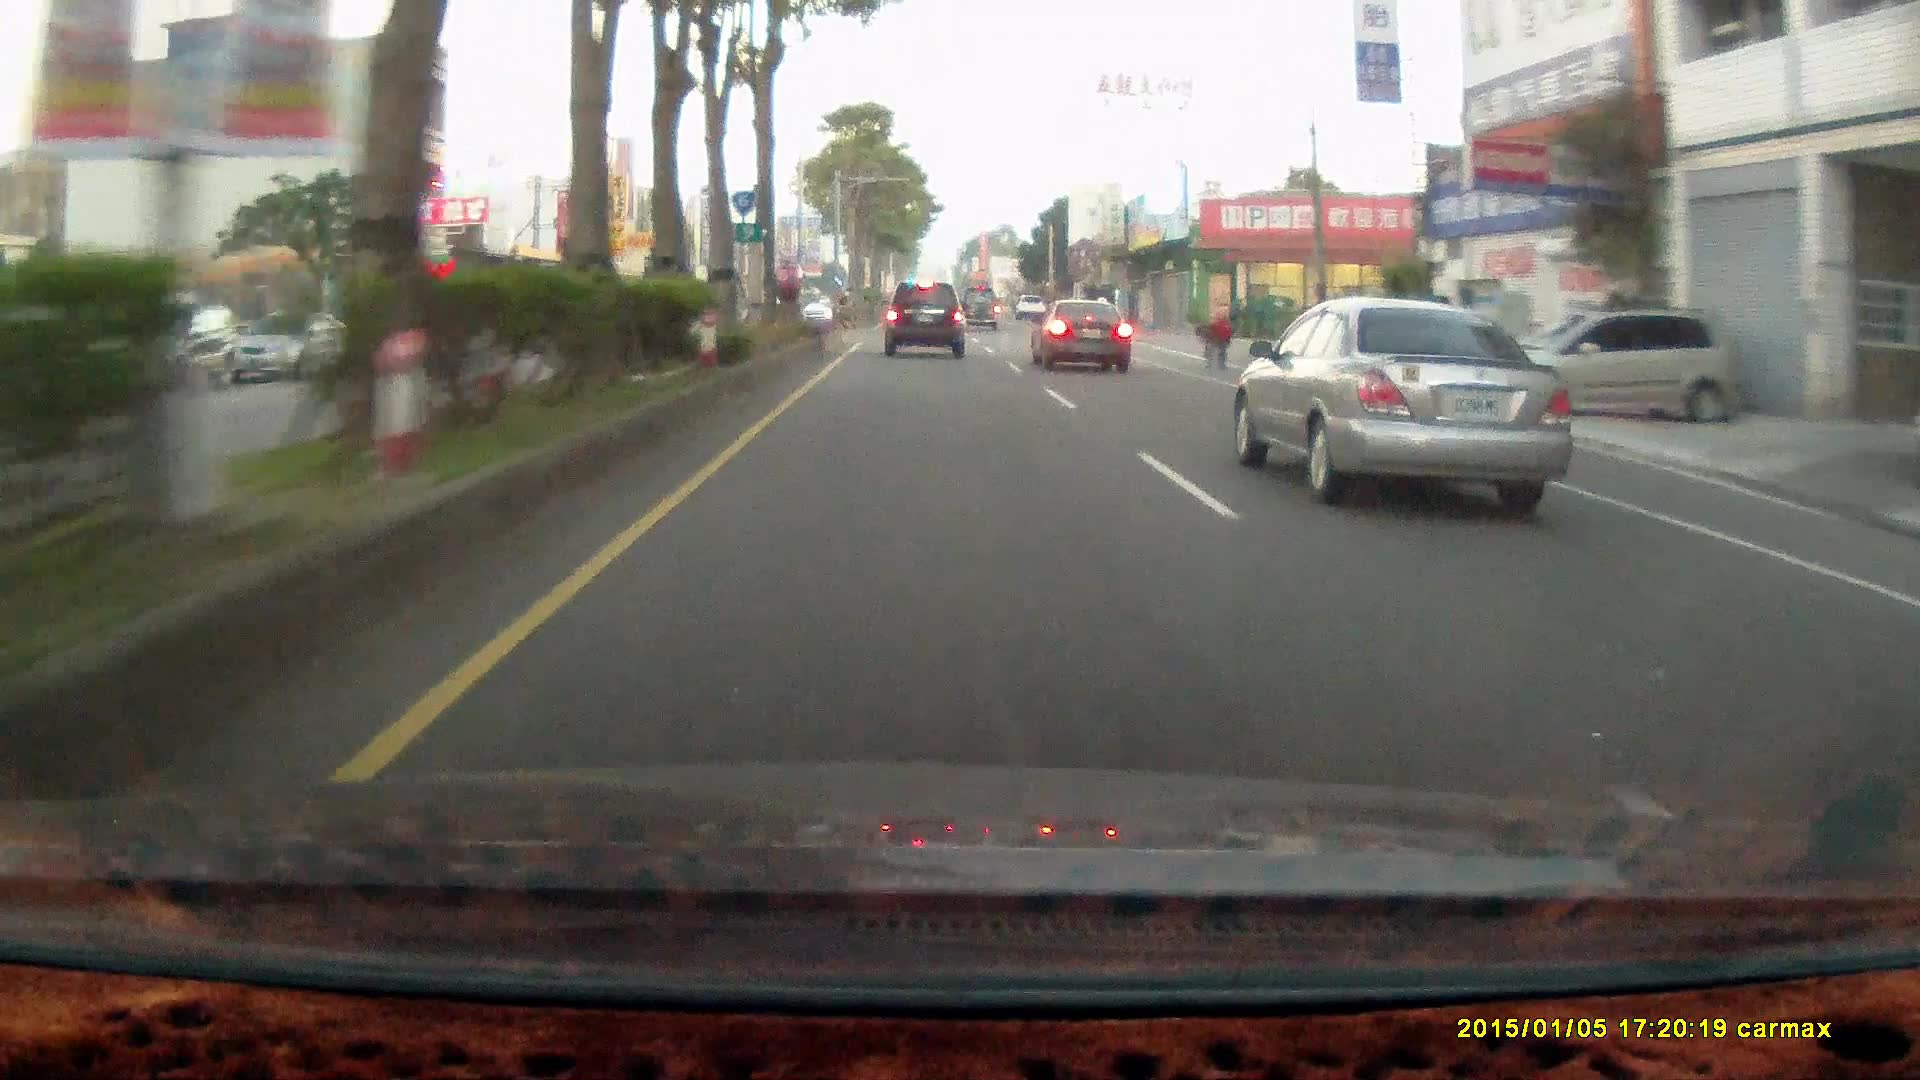pedestrian: (1209, 301, 1234, 371), (1212, 302, 1235, 365)
vehicle: (1238, 298, 1572, 504), (1492, 303, 1735, 423), (1512, 304, 1736, 424), (240, 302, 380, 383), (124, 304, 239, 393), (228, 306, 349, 381), (1031, 297, 1137, 376), (1029, 294, 1131, 372), (883, 280, 971, 359), (884, 282, 965, 357), (959, 279, 999, 325)
